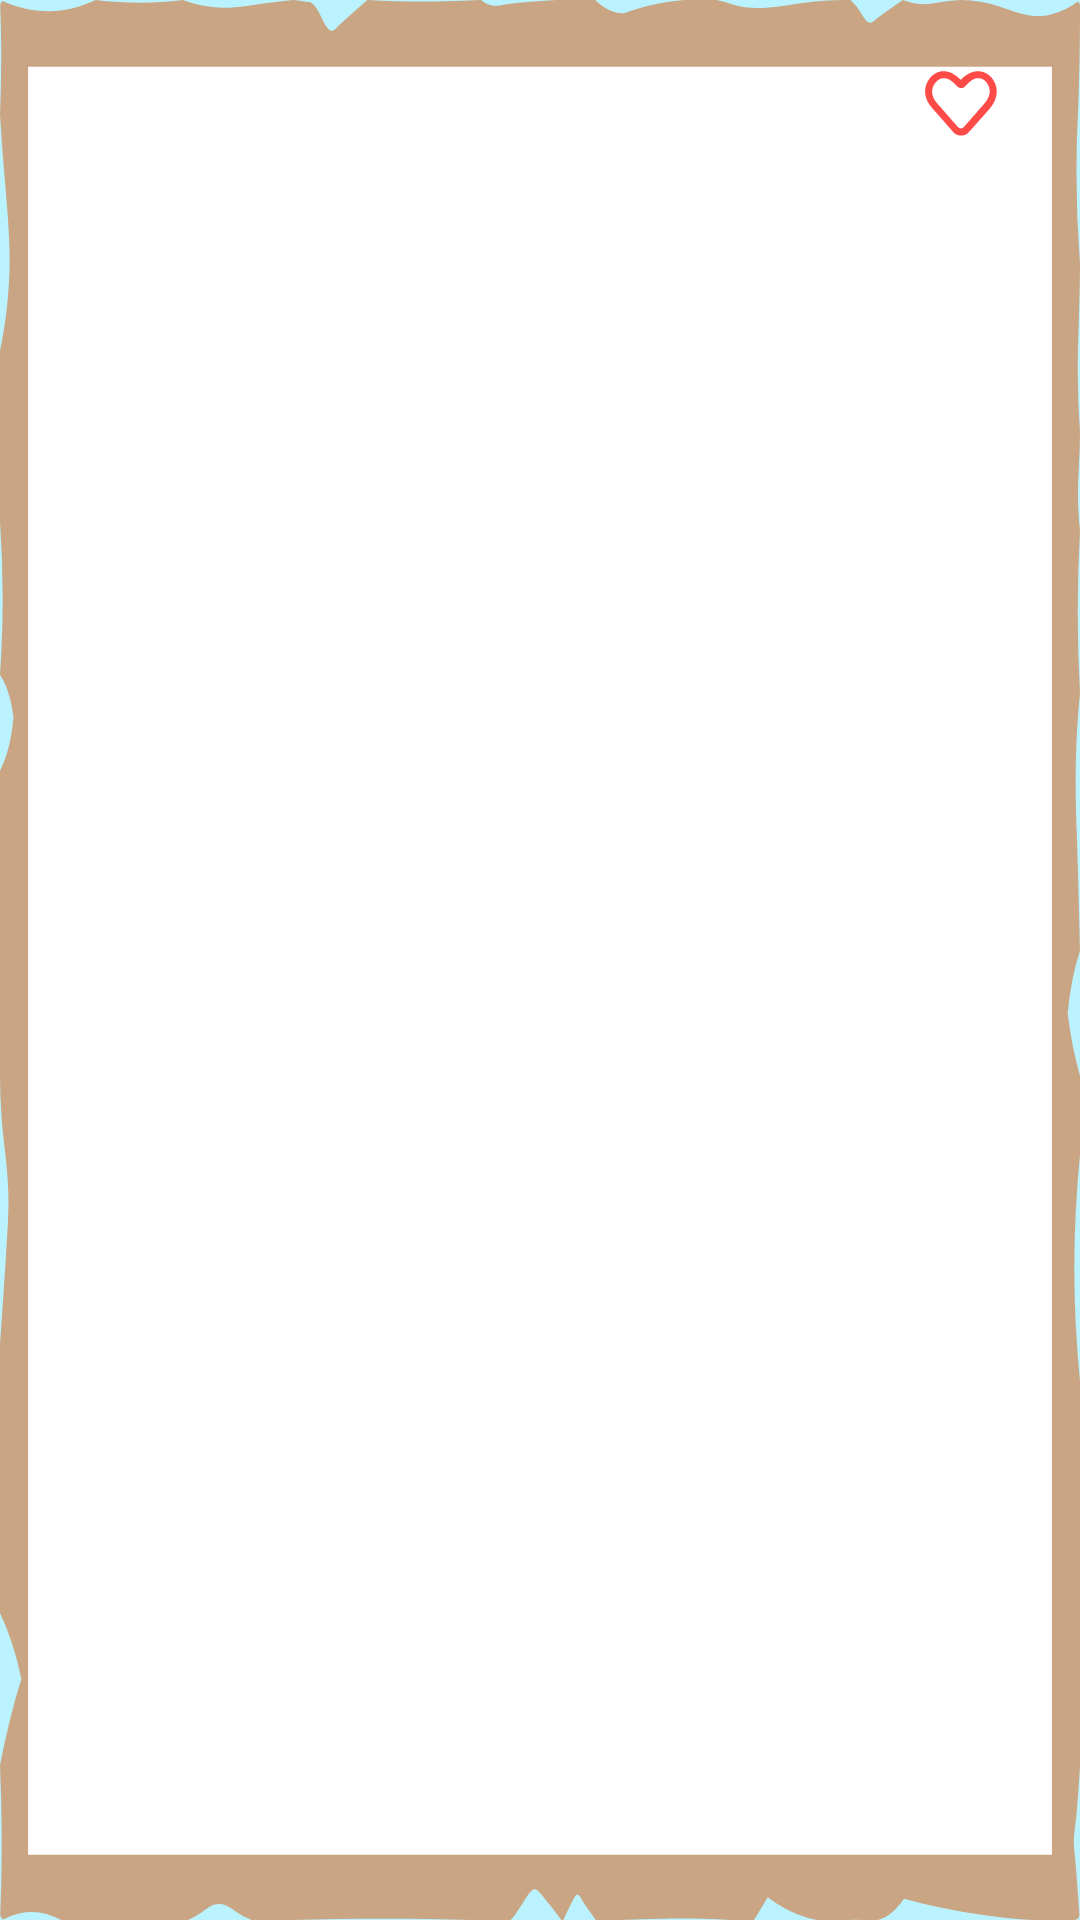

Named icons in this screenshot (1080x1920) and their centers, (x=x, y=y):
heart line: (x=961, y=103)
